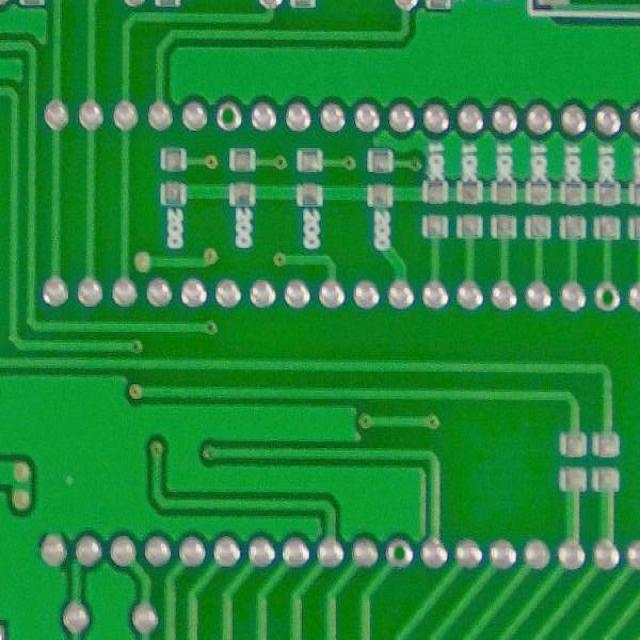missing hole: (212, 96, 246, 136), (589, 278, 623, 314), (384, 536, 417, 572)
